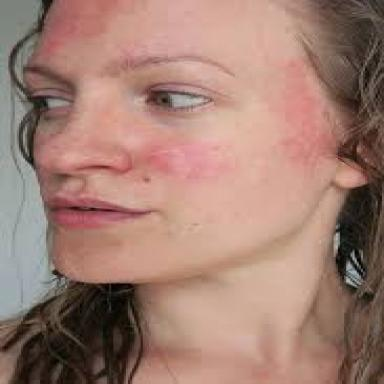burn: (266, 61, 325, 161), (38, 14, 107, 61), (147, 140, 222, 177)
